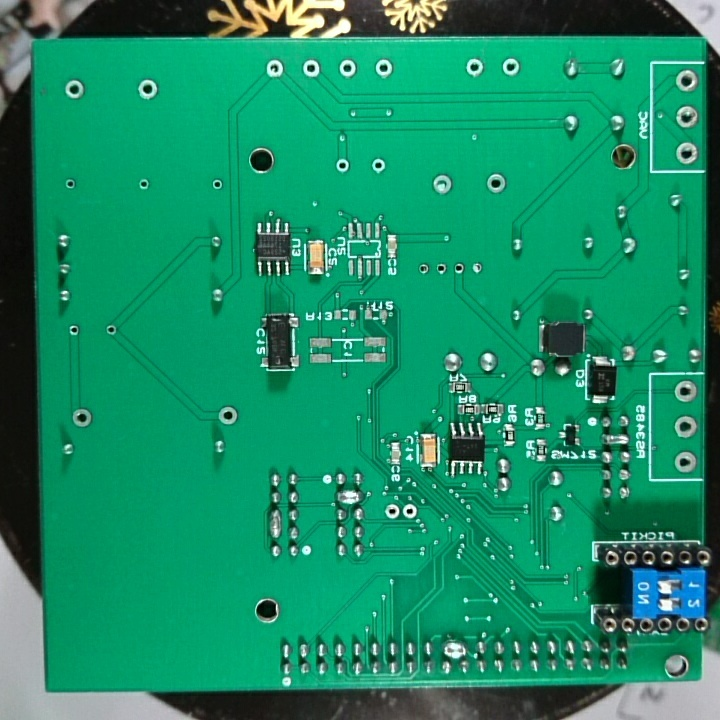F: (68, 404, 95, 432), (675, 104, 701, 131), (134, 77, 161, 103), (483, 170, 510, 196), (674, 140, 700, 166), (216, 403, 242, 429), (673, 413, 698, 440), (671, 379, 699, 403), (674, 69, 699, 95), (61, 78, 87, 103), (428, 172, 456, 195), (674, 449, 697, 474), (463, 55, 485, 79), (500, 56, 522, 79), (300, 57, 322, 80), (263, 58, 285, 80), (338, 57, 359, 80), (399, 499, 419, 523), (382, 500, 401, 523), (367, 155, 388, 175), (374, 56, 393, 78), (334, 156, 353, 175), (134, 175, 153, 193), (468, 258, 485, 278), (450, 260, 468, 278), (415, 260, 432, 279), (62, 175, 78, 194), (102, 320, 118, 338), (66, 321, 82, 338), (209, 175, 224, 193), (434, 261, 449, 277)
P: (439, 640, 468, 660), (333, 487, 365, 505), (266, 509, 282, 538), (600, 432, 633, 446)
